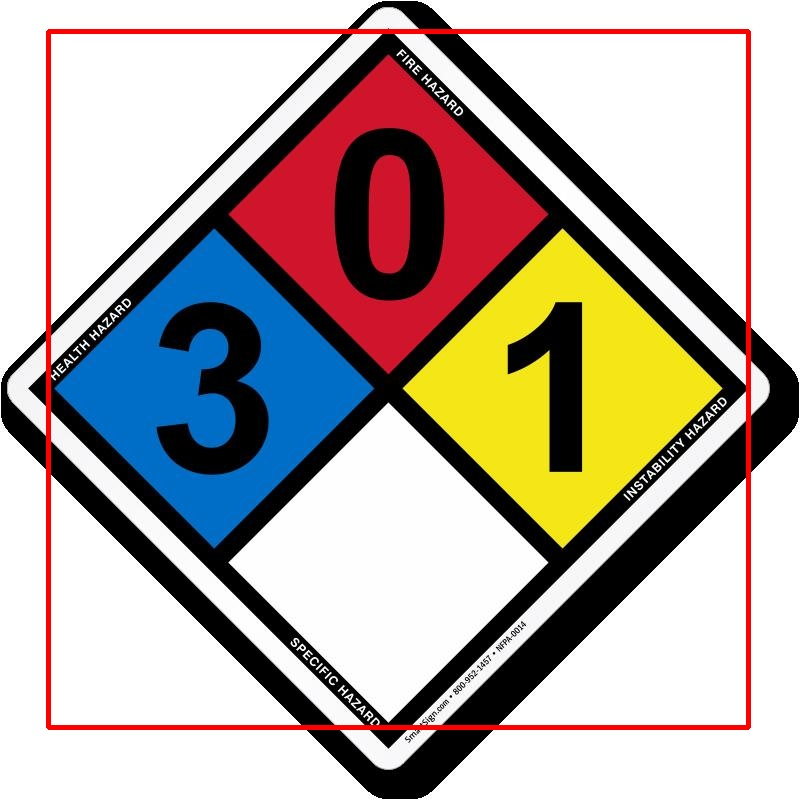nfpa: (48, 31, 748, 727)
